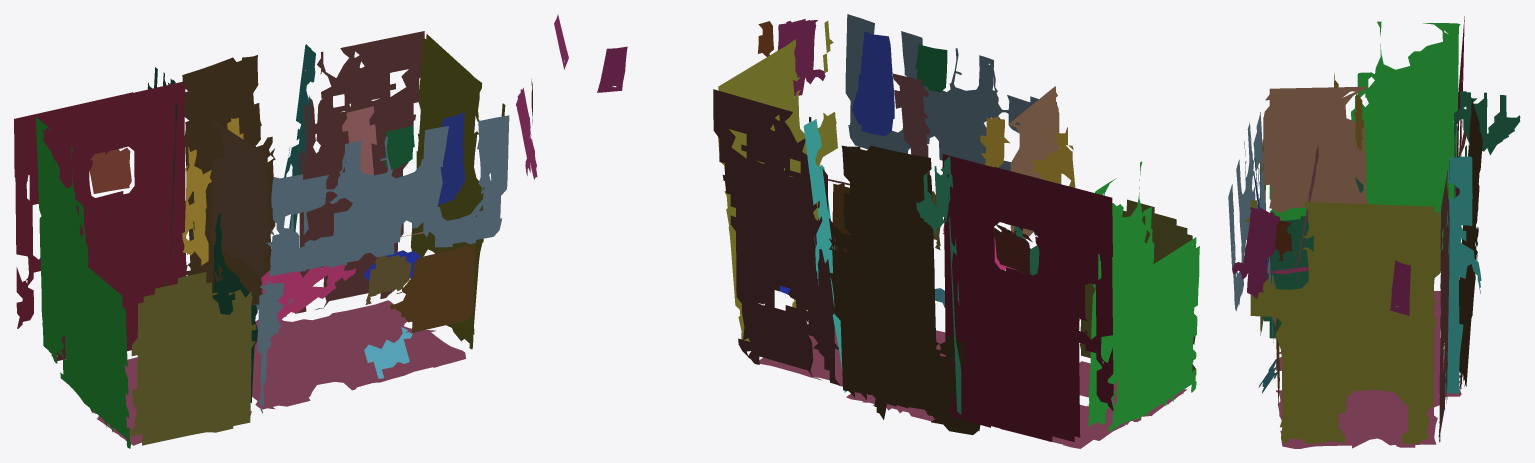
File: AirPlanes-31a2c91c43.glb
3 views of the same model, side by side, from view 1: azimuth 30°, elevation 25°; view 2: azimuth 150°, elevation 25°; view 3: azimuth 270°, elevation 25° (orthographic). The views are drawn at different scales.
Parts seen in each view (by area): view 1: piecewise-AirPlanes-scene2008_00-lean; view 2: piecewise-AirPlanes-scene2008_00-lean; view 3: piecewise-AirPlanes-scene2008_00-lean.
Boxes of the visible parts, x1,y1,x2,y2 form: piecewise-AirPlanes-scene2008_00-lean: (14, 14, 568, 448); piecewise-AirPlanes-scene2008_00-lean: (597, 14, 1199, 448); piecewise-AirPlanes-scene2008_00-lean: (1228, 16, 1520, 448).
Bounding box in the file's own units: 3.82 × 1.89 × 1.85.
